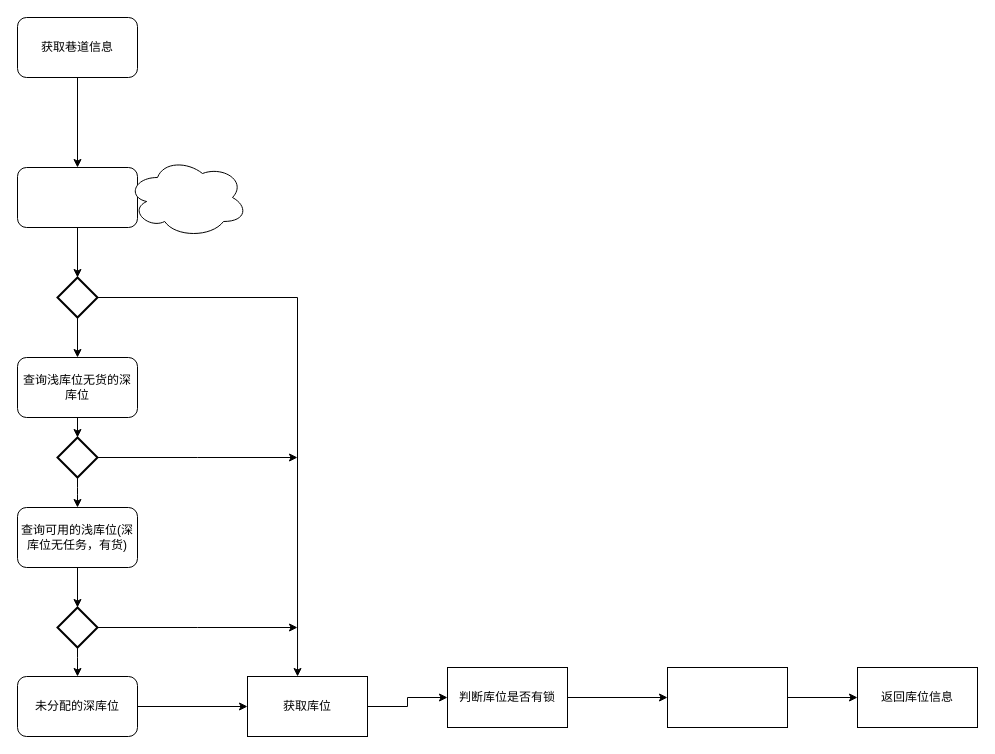
The diagram is 995 pixels wide and 754 high, and some of its shapes have lost their labels. The shapes that lost their labels are listed below. From the top down, each one's centre as x and y in pixels, then its label:
(x=77, y=197): 查询没有深库位关联的浅库位
(x=187, y=197): 深库位有货或者有任务(等待，执行)
(x=727, y=697): 库位加锁
